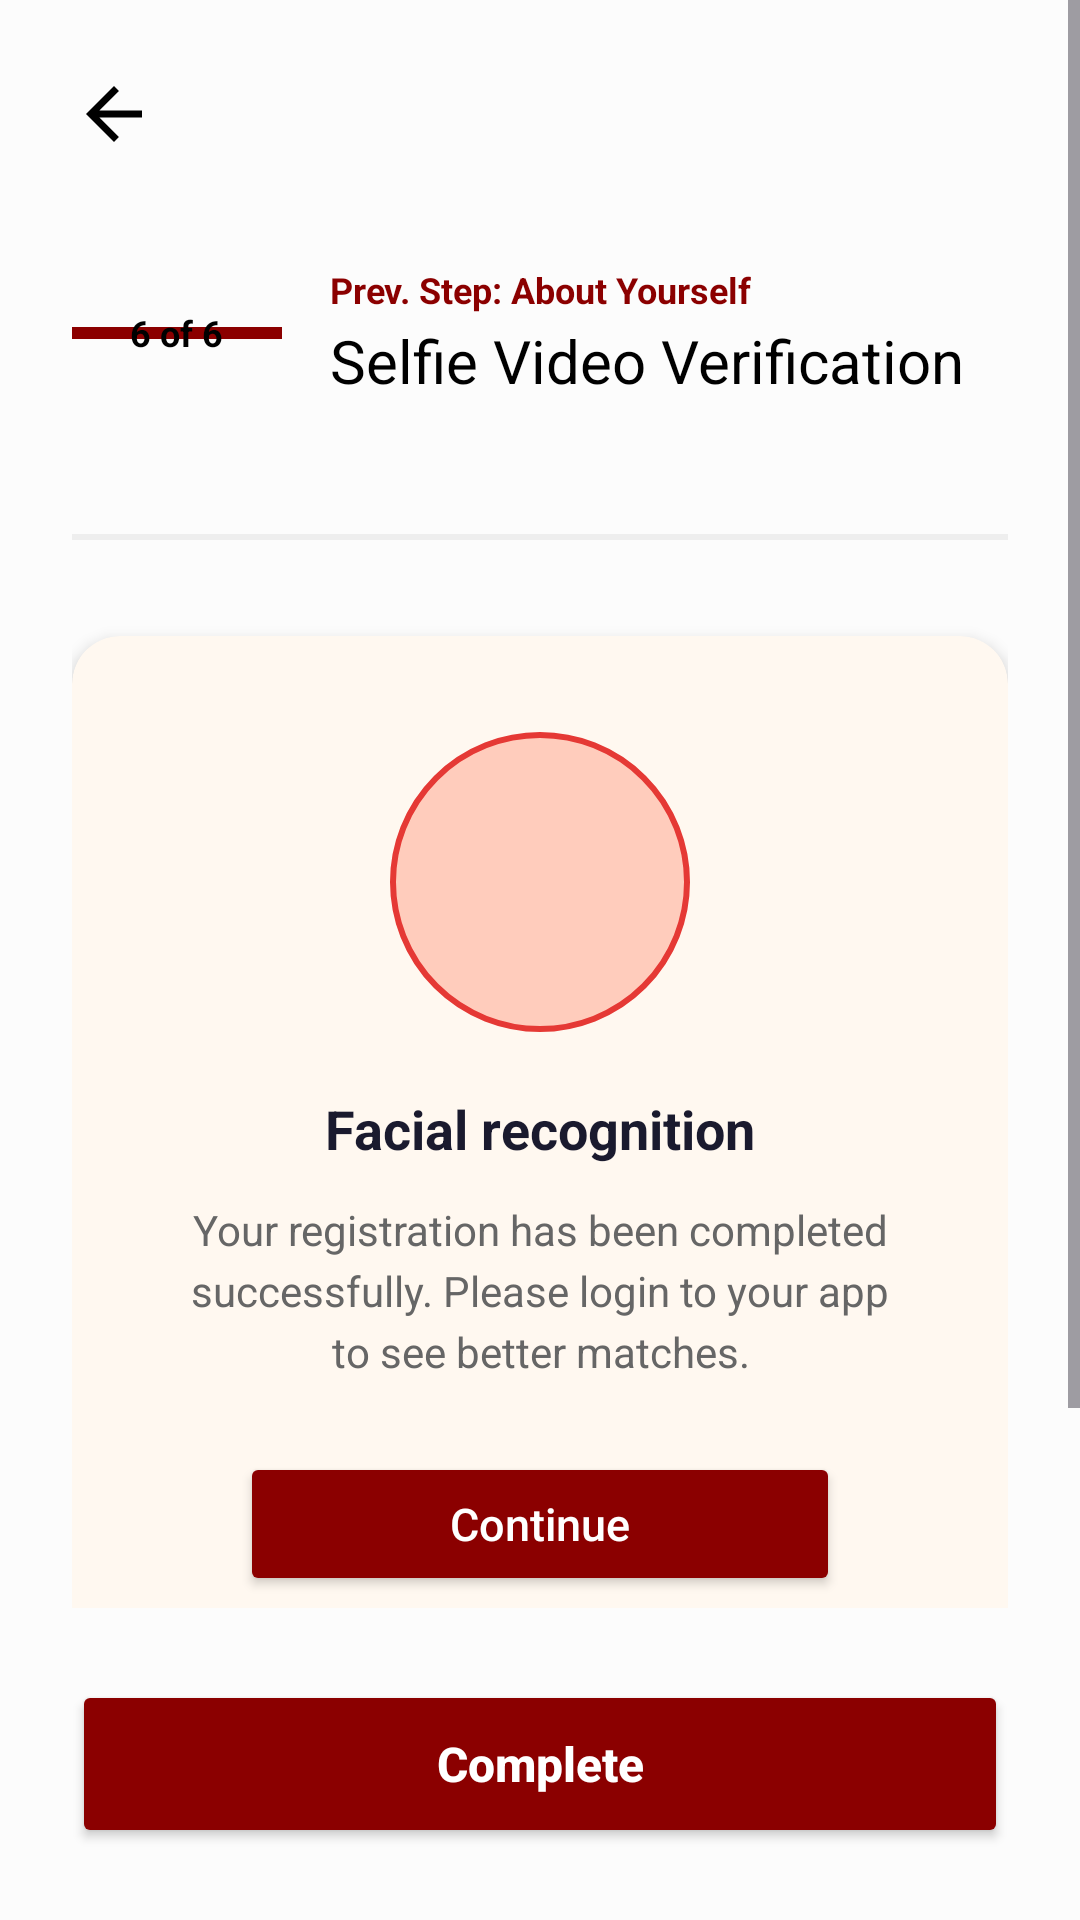

Where to tap for icons on this 1080*1920 app screen, as point (x, y):
Back: point (114, 114)
